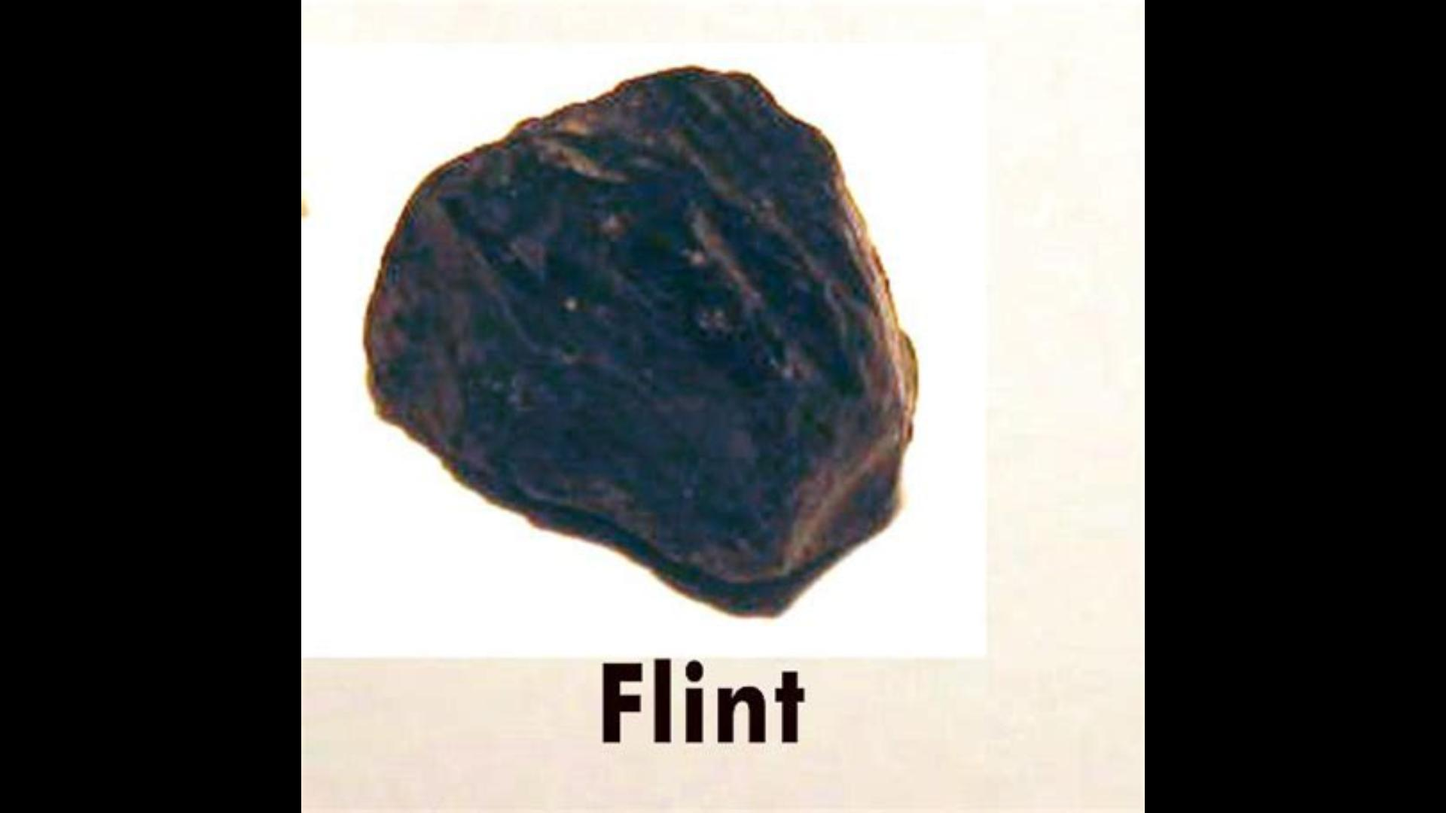rock: (364, 76, 914, 610)
